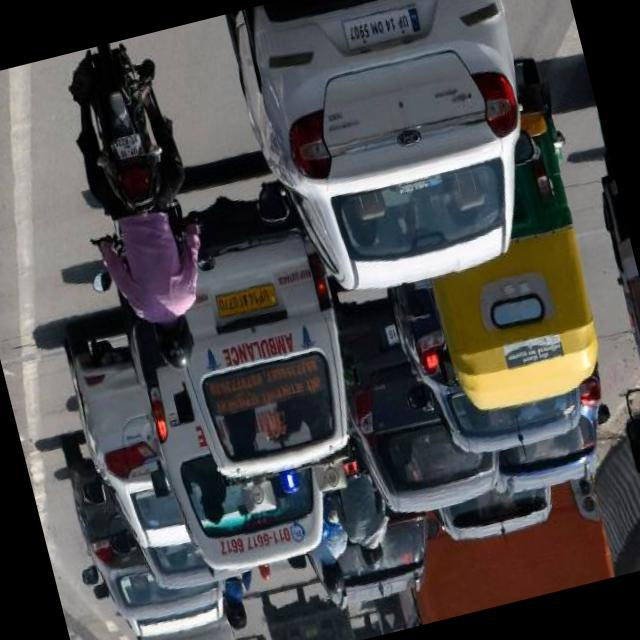ambulance: (174, 256, 368, 514), (210, 302, 311, 384), (246, 551, 282, 587)
